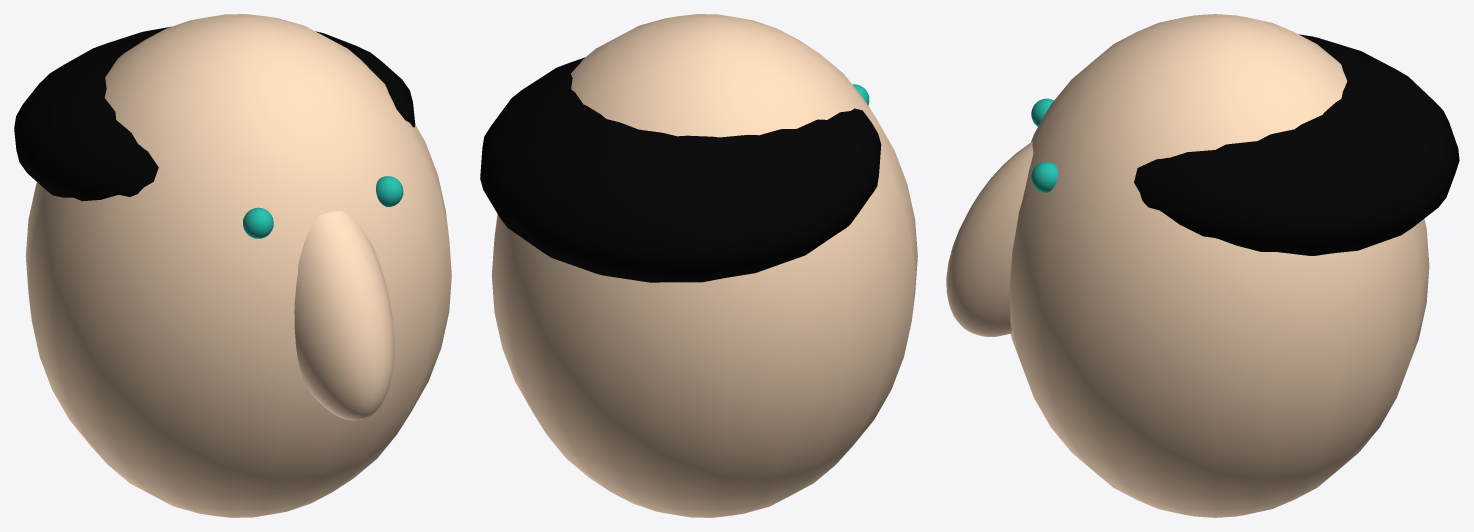
Rendered from whiteguy.obj.
3 renders of one model, left to right at view 1: azimuth 30°, elevation 25°; view 2: azimuth 150°, elevation 25°; view 3: azimuth 270°, elevation 25°, orthographic.
Visible parts, largest first — view 1: pSphere7; view 2: pSphere7; view 3: pSphere7.
Part boxes in pixels (x1,y1,x2,y2): pSphere7: [14, 14, 451, 517]; pSphere7: [480, 14, 917, 517]; pSphere7: [946, 14, 1459, 517].
Bounding box in the file's own units: 2 × 2.43 × 2.4.
